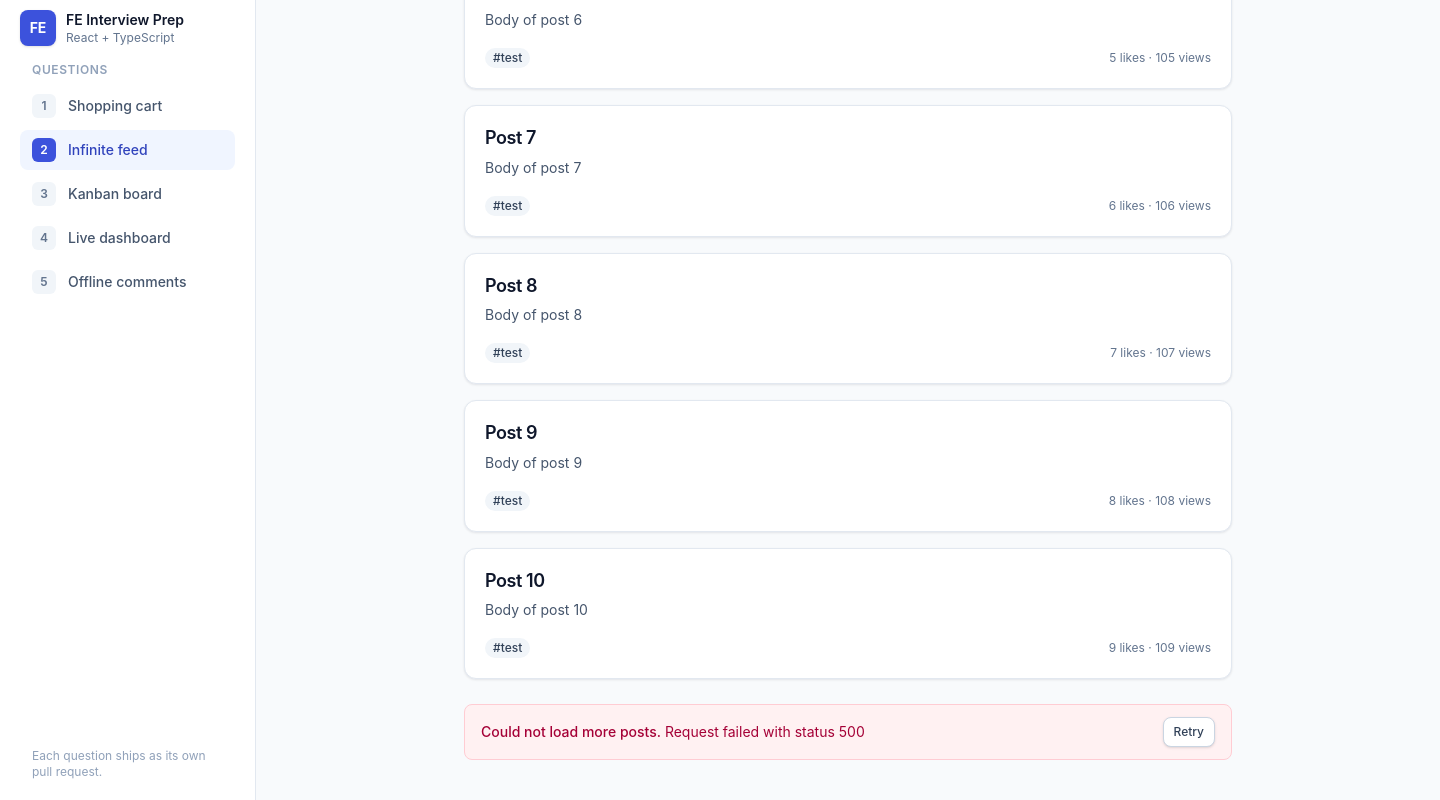
infinite feed › shows an error and retries only the page that failed
The image size is (1440, 800).
(page scrolled)
Check: the link "Post 10" is shown, box [485,570,545,590]
Check: the message shows "Could not load more posts.", box [481,723,661,740]
Step 1. Click the button "Retry" → click(1189, 732), box [1162,717,1215,747]
(page scrolled)
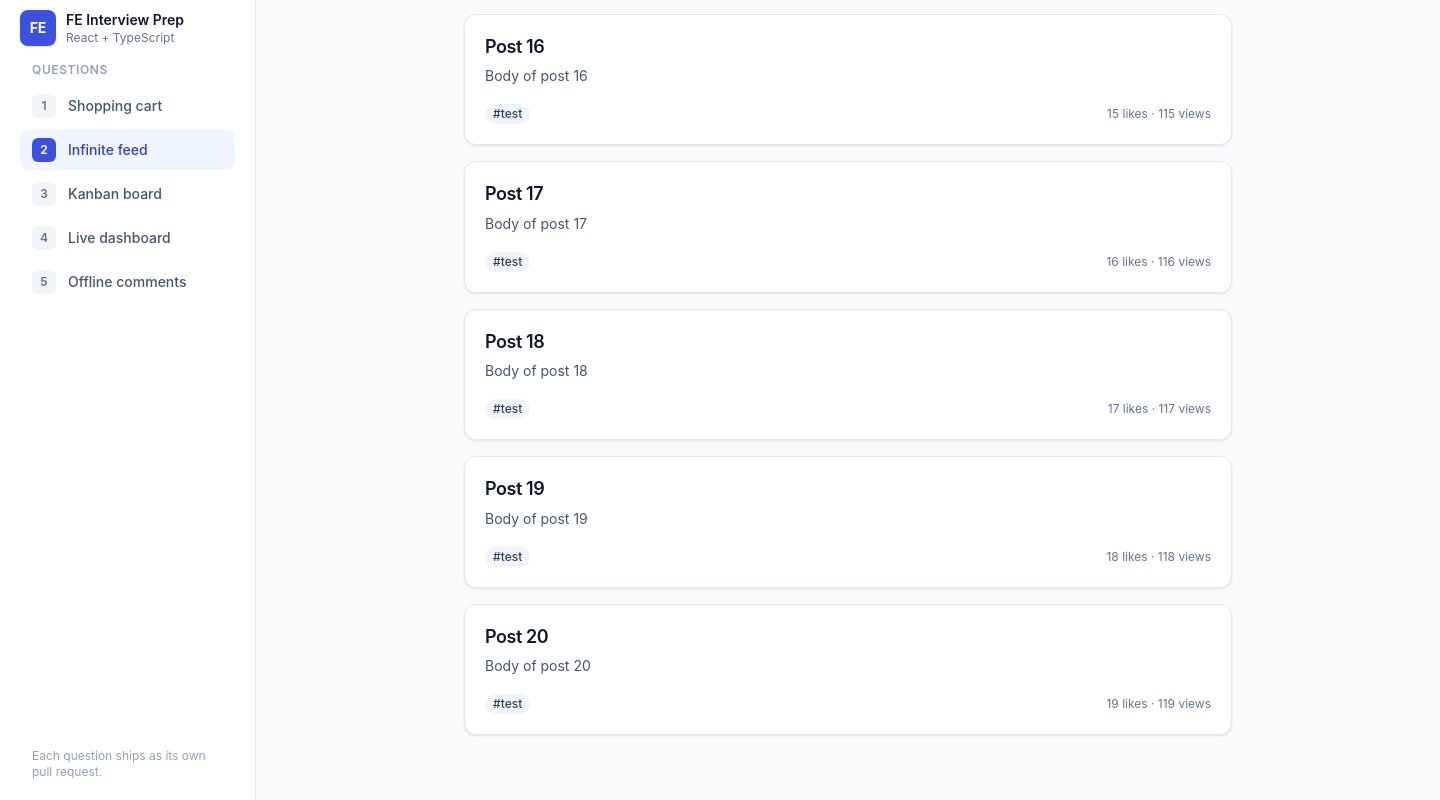
Check: the link "Post 20" is shown, box [485,626,548,646]
Check: the message "Could not load more posts. Request failed with status 500 Retry" is gone
